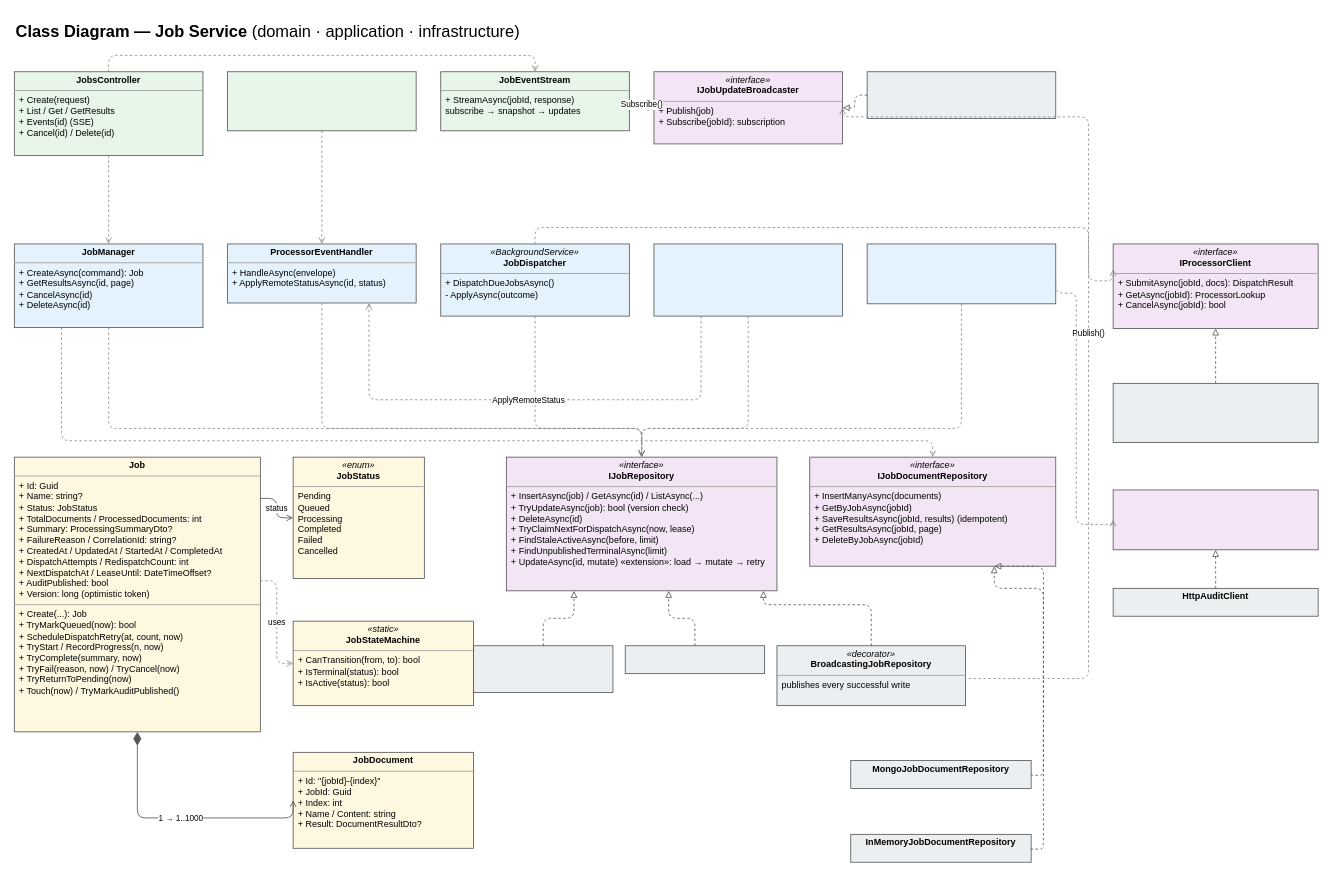
This 1333x877 diagram has some shape labels left out. The shapes that lost their labels are listed below. From the top down, each one's centre as x and y in pixels, then its label:
(321,101): ProcessorEventsEndpoint + HandleAsync(HttpContext) receive → handle → ack
(961,94): InMemoryJobUpdateBroadcaster bounded drop-oldest per subscriber
(748,279): «BackgroundService» JobReconciler + ReconcileOnceAsync() - RecoverLostJobAsync()
(961,273): «BackgroundService» AuditPublisher + PublishPendingAsync()
(1215,412): HttpProcessorClient HTTP status → Accepted | Busy | Rejected | Unreachable
(1215,519): «interface» IAuditClient + PublishAsync(request): AuditPublishOutcome
(543,668): MongoJobRepository + EnsureIndexesAsync()
(694,659): InMemoryJobRepository
